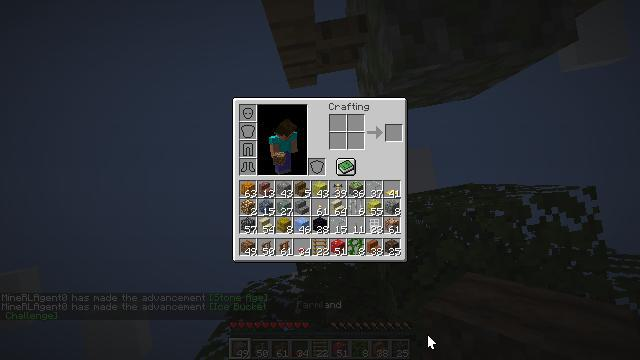cursor: (427, 334, 437, 350)
